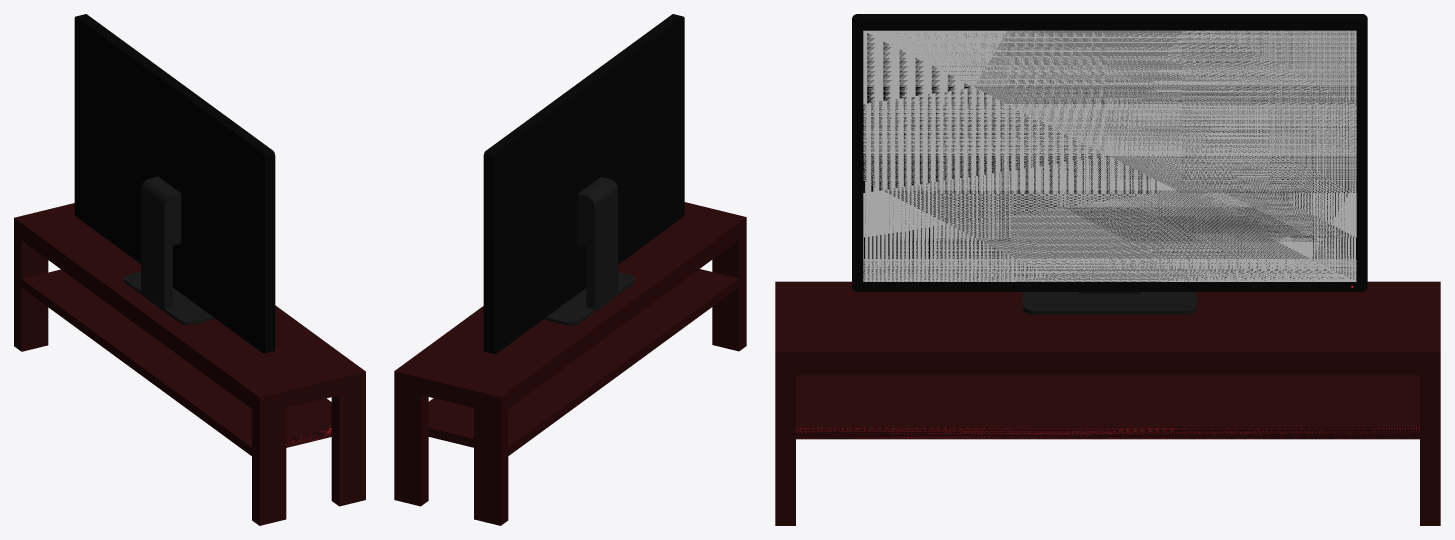
3 views of the same model, side by side, from view 1: azimuth 30°, elevation 25°; view 2: azimuth 150°, elevation 25°; view 3: azimuth 270°, elevation 25° (orthographic). The views are drawn at different scales.
Visible parts, largest first — view 1: Component_50 (×3), Component_49 (×2); view 2: Component_50 (×3), Component_49; view 3: Component_50 (×4), Component_49 (×2).
Part boxes in pixels (x1,y1,x2,y2): Component_50 (×3): [74, 14, 275, 353]; Component_49 (×2): [14, 203, 365, 525]; Component_50 (×3): [483, 16, 684, 354]; Component_49: [394, 202, 746, 525]; Component_50 (×4): [852, 14, 1367, 310]; Component_49 (×2): [775, 281, 1440, 525].
Bounding box in the file's own units: 118 × 472 × 364.
